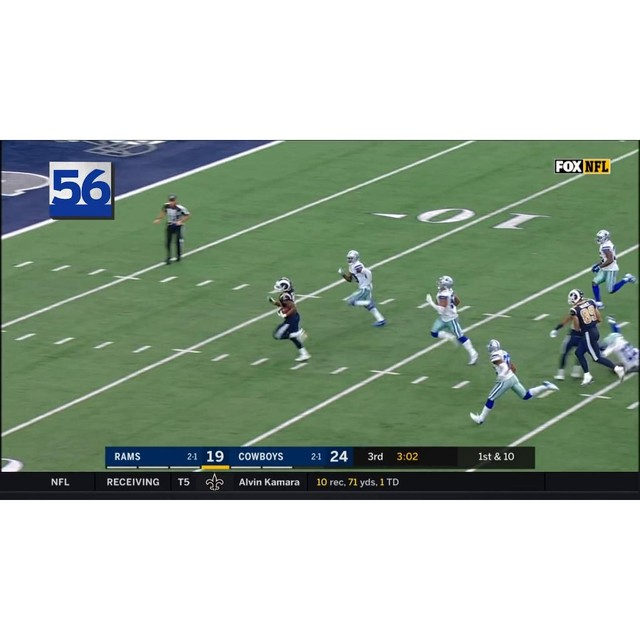american-football-player: (470, 337, 552, 425), (565, 289, 622, 385), (418, 275, 480, 362), (338, 250, 389, 327), (265, 281, 312, 362), (589, 229, 636, 304)
referee: (151, 193, 192, 267)
